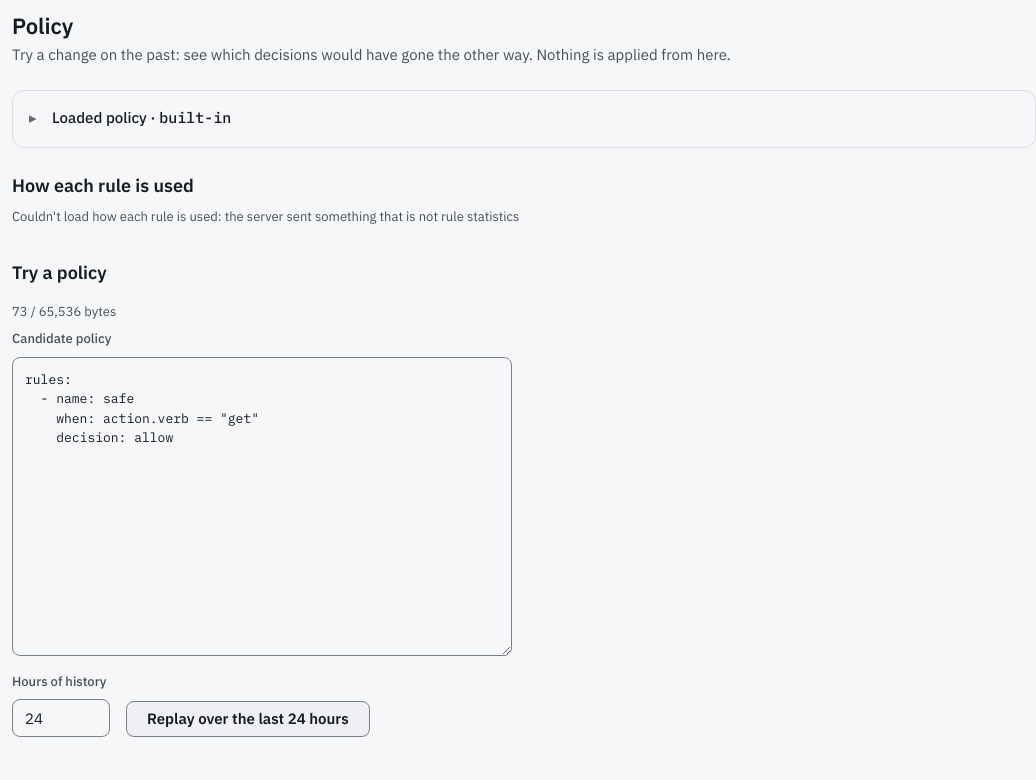
Policy › a truncated replay says it covered only the most recent decisions in this window
Check: the text "built-in" is shown, box [159,108,231,127]
Click the button "Replay over the last 24 hours": (248, 719) [126,701,370,737]
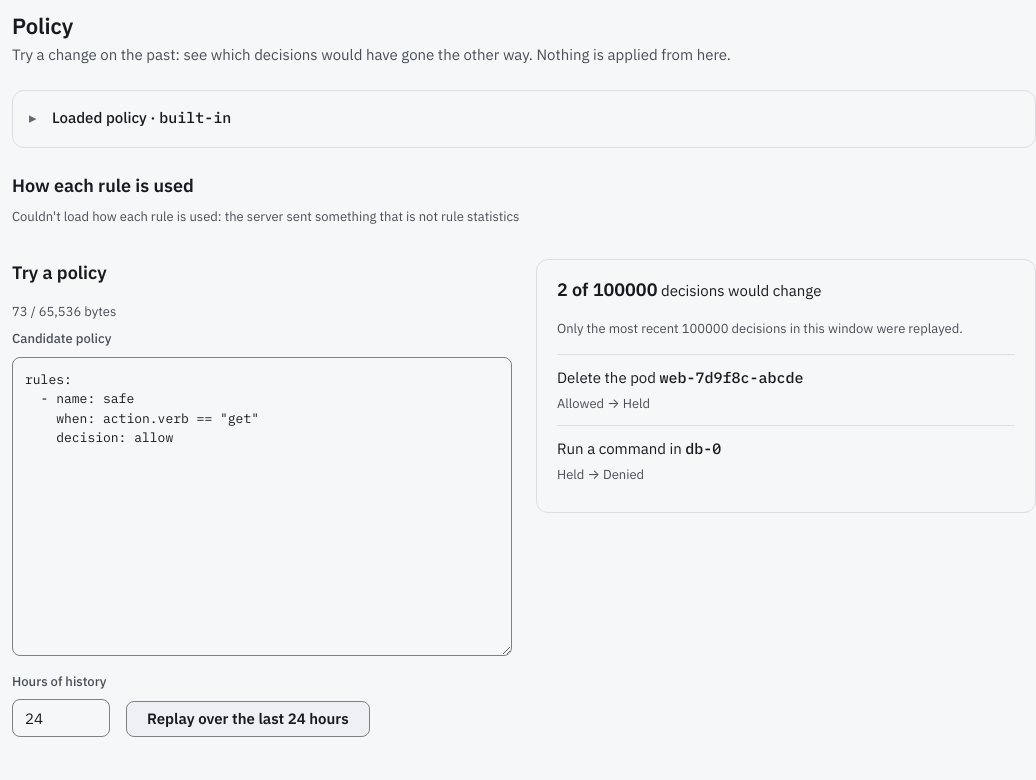
Check: the text "Only the most recent 100000 decisions in this window were replayed." is shown, box [557,318,1015,338]
